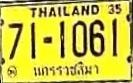0: (72, 20, 86, 56)
1: (111, 18, 116, 56), (59, 20, 64, 57), (30, 23, 35, 58)
6: (89, 19, 104, 56)
7: (8, 22, 22, 59)
NMA: (33, 61, 100, 77)
